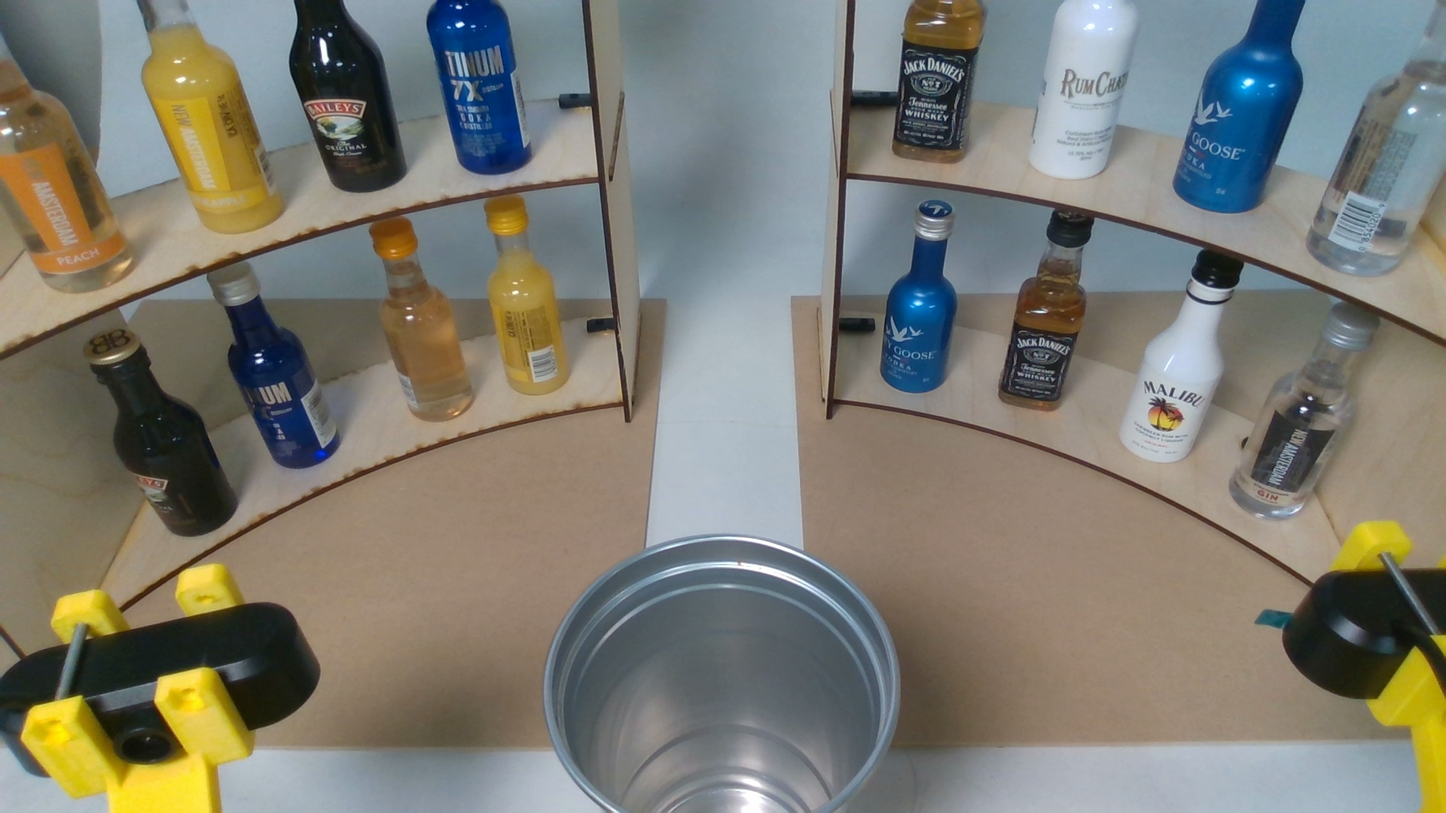coke: (80, 329, 238, 536), (288, 0, 410, 196)
gin: (1311, 0, 1446, 277), (1233, 308, 1377, 521)
ginger_beer: (0, 32, 134, 294), (366, 221, 475, 424)
orange_juice: (134, 0, 289, 235), (480, 199, 573, 395)
tequila: (1119, 248, 1240, 463)
tonic_water: (210, 260, 343, 472), (423, 0, 537, 176)
vodka: (1177, 0, 1307, 214), (880, 198, 952, 396)
whiskey: (1003, 204, 1097, 413), (890, 0, 985, 167)
